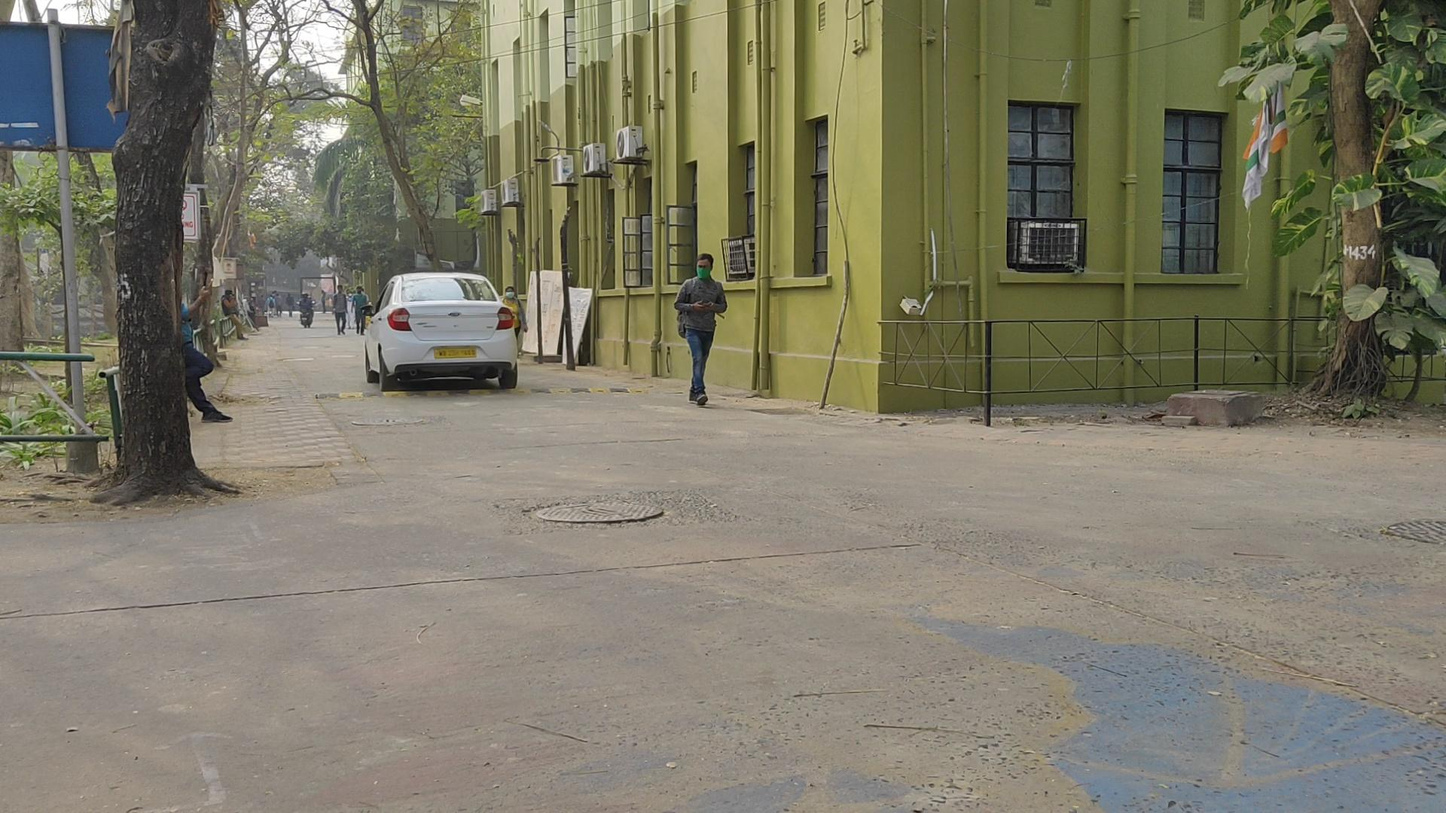car: (365, 273, 517, 392)
